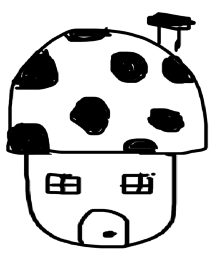big_house: (0, 0, 223, 260)
chimney: (145, 3, 198, 64)
closed_window: (42, 168, 88, 200), (115, 171, 159, 199)
door: (71, 206, 134, 252)
roof: (2, 22, 212, 163)
wall: (19, 143, 182, 251)
